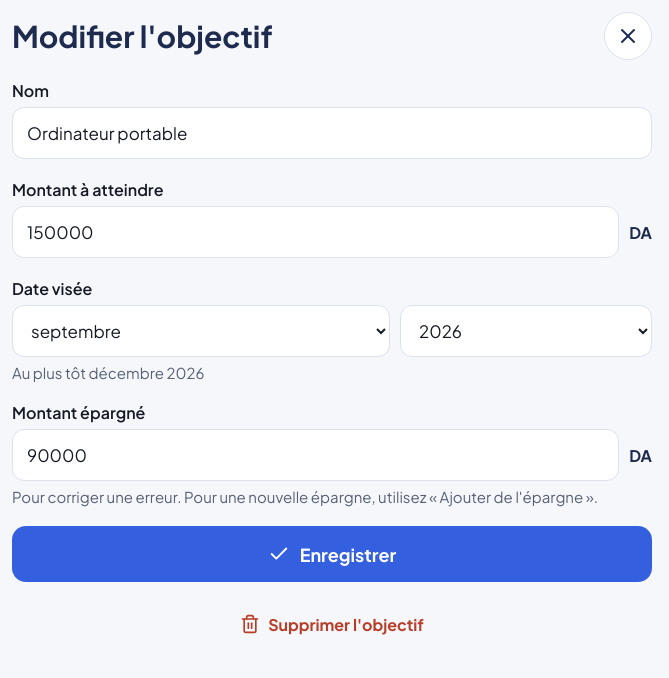
Test: GoalForm (modification) › montant épargné négatif refusé
Replace the text in the field labelled "Montant épargné" with "-5": (316, 455) [12,429,619,481]
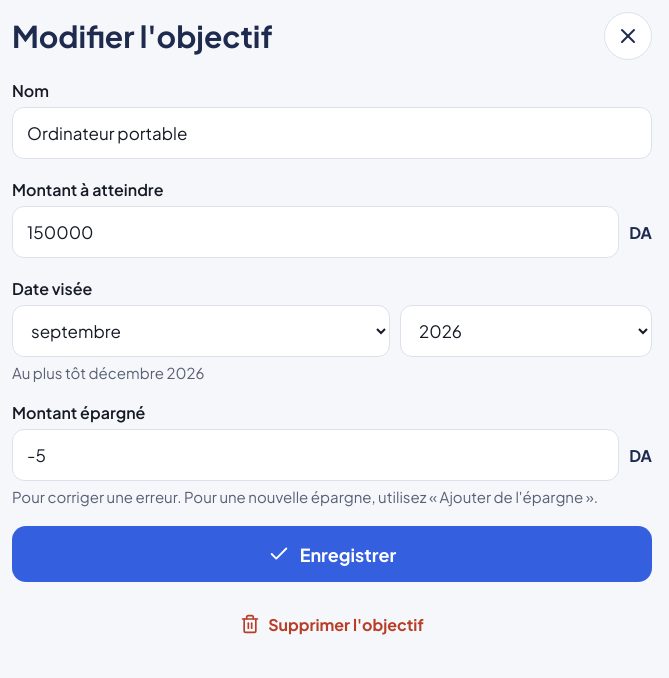
Click the button "Enregistrer": (332, 554) [12,526,652,582]
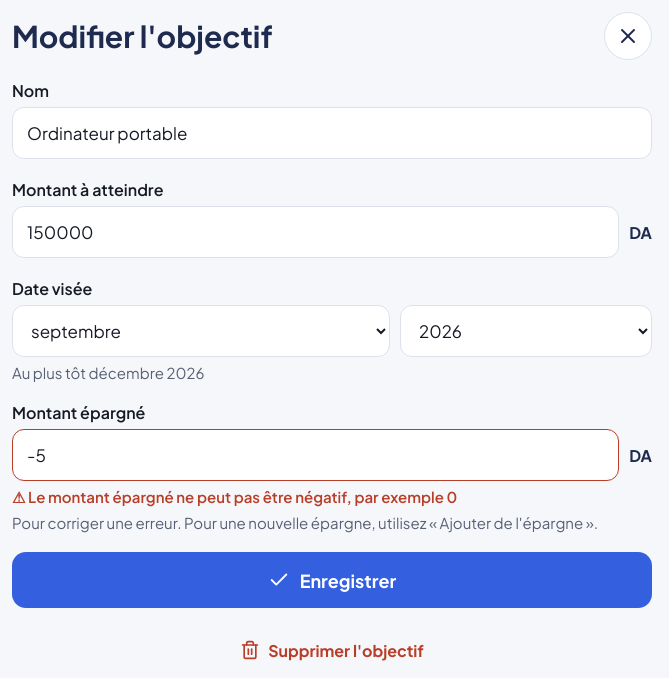
expect the text "Le montant épargné ne peut pas être négatif, par exemple 0" is shown: met, box [28,487,457,506]
